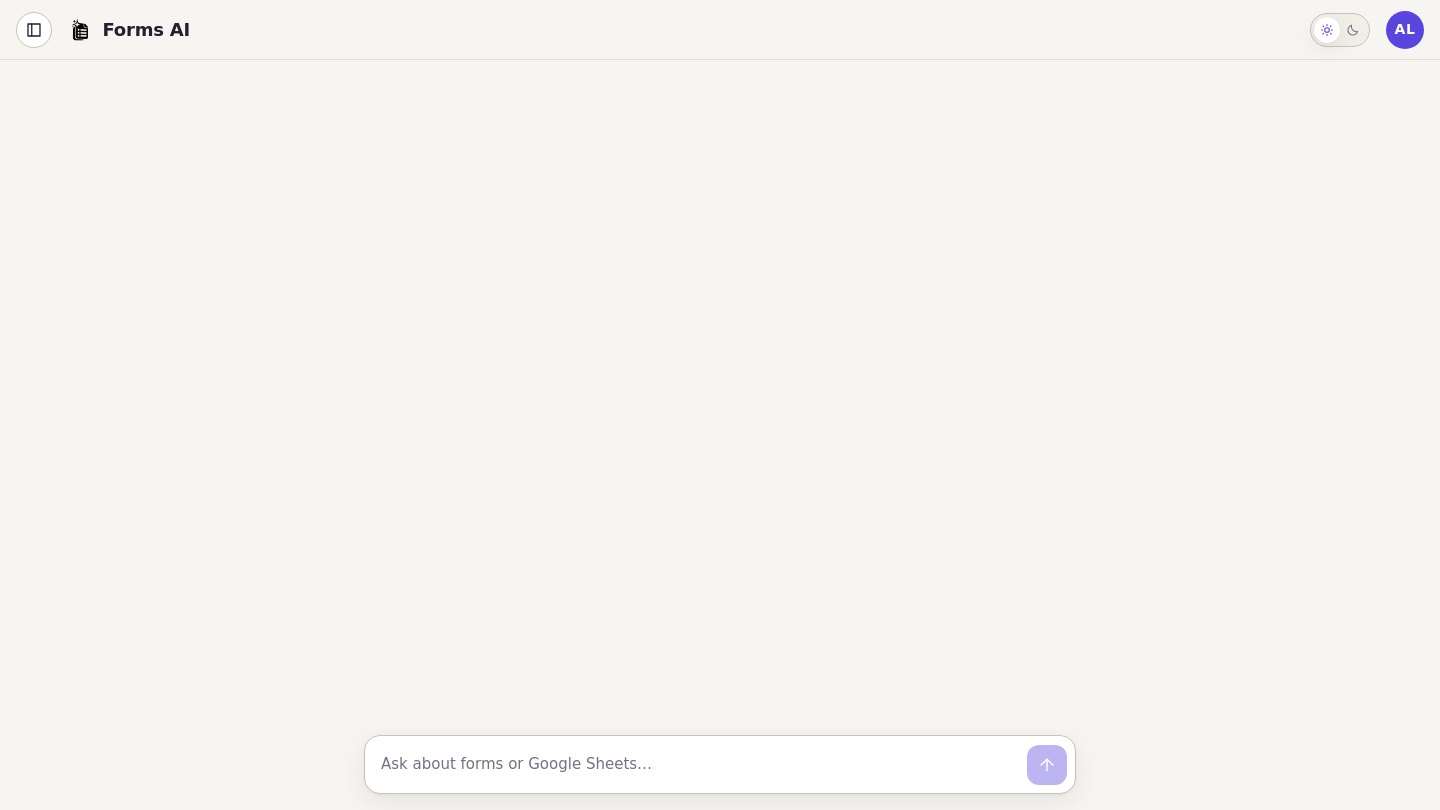
Scenario: chat history deletion › waits five seconds with a countdown and lets Undo cancel without deleting anything
This screenshot has width=1440, height=810.
Click the button named "Open sidebar".
click(34, 30)  # box [16,12,52,48]
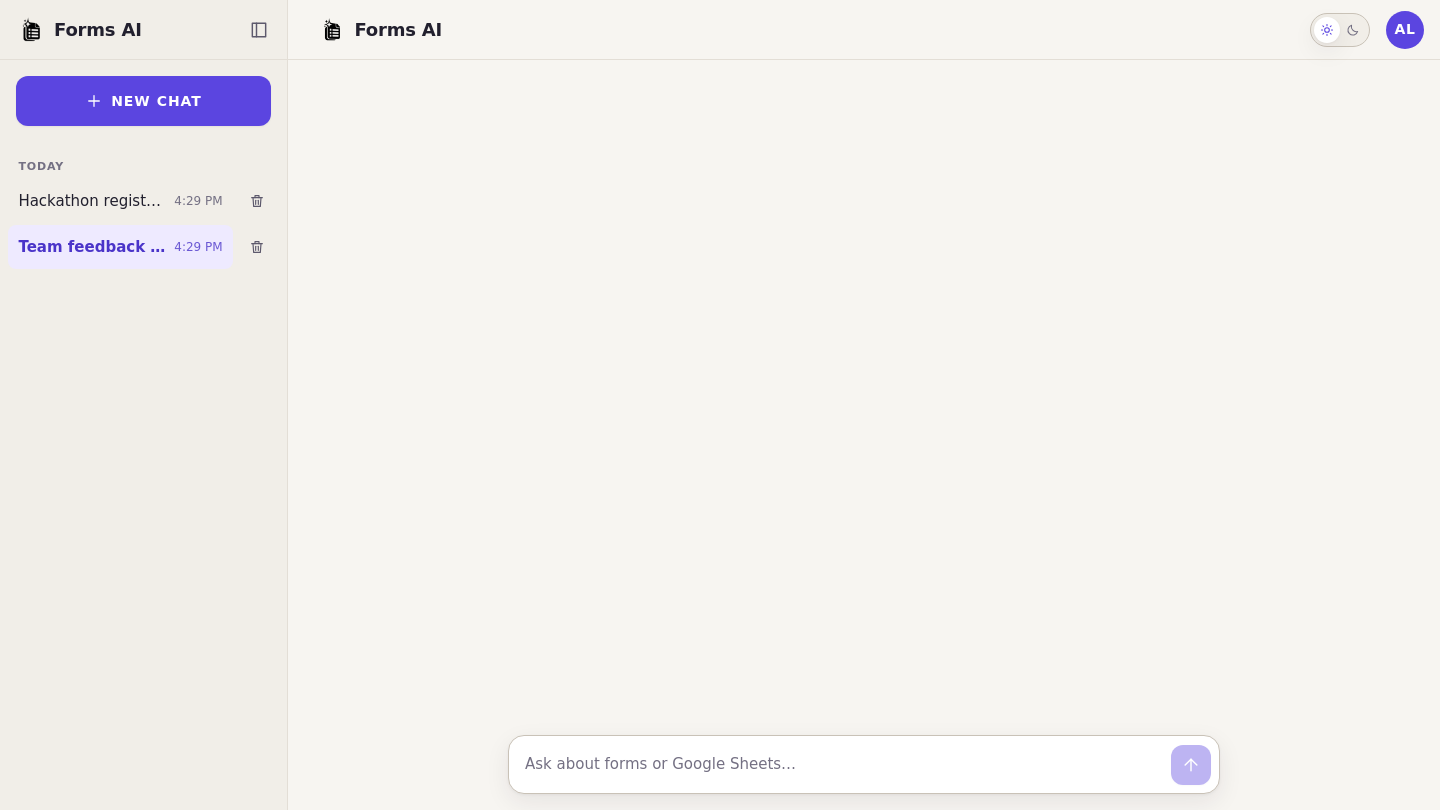
Now the text "Hackathon registration" is shown, box [18,190,166,213]
Click the button named "Delete chat “Hackathon registration”".
click(257, 201)  # box [235,179,279,223]
Wait 4999 ms
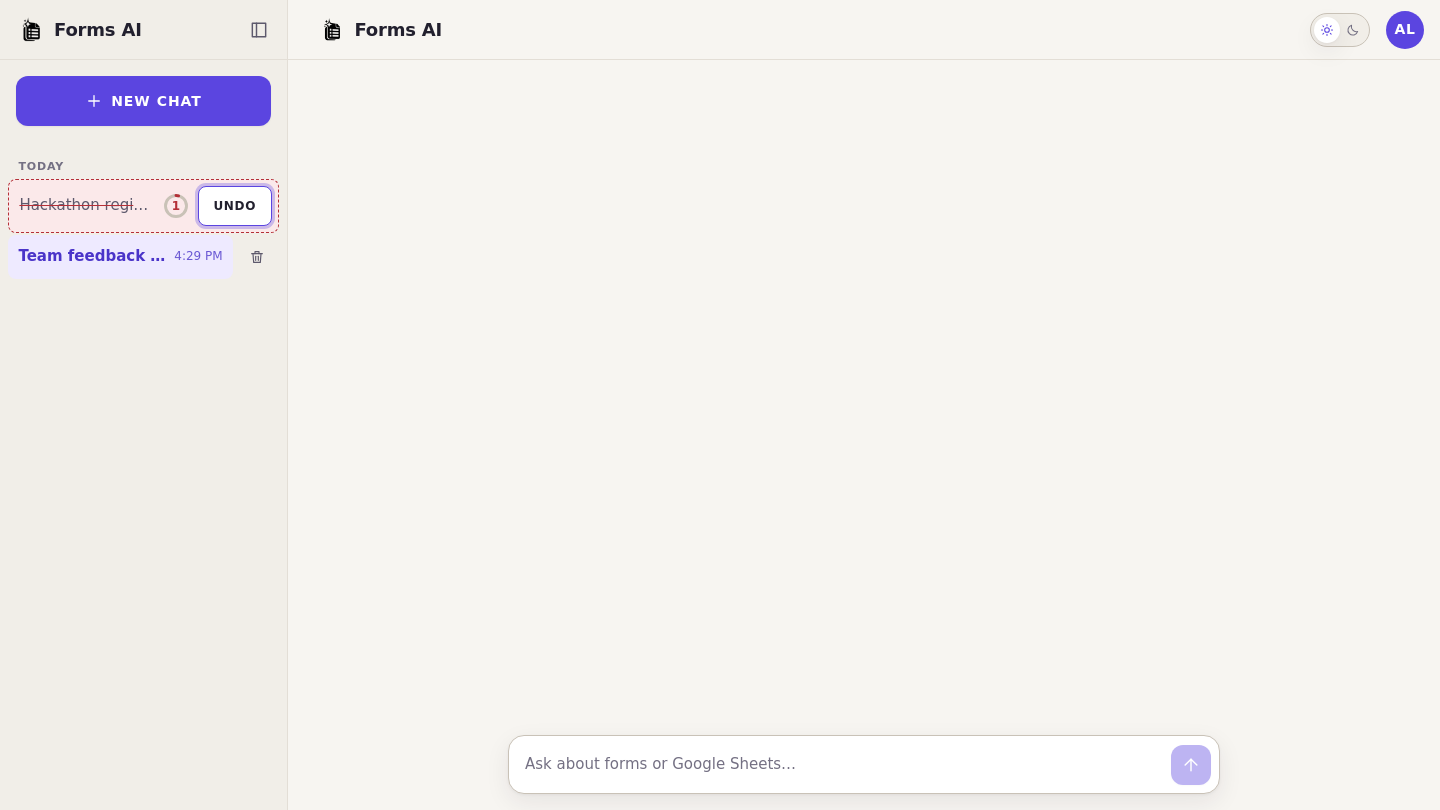
Now the text "3" is shown, box [172,197,180,215]
Click the button with aria-label "Undo deleting “Hackathon registration”".
click(235, 206)  # box [198,186,272,226]
Wait 10000 ms
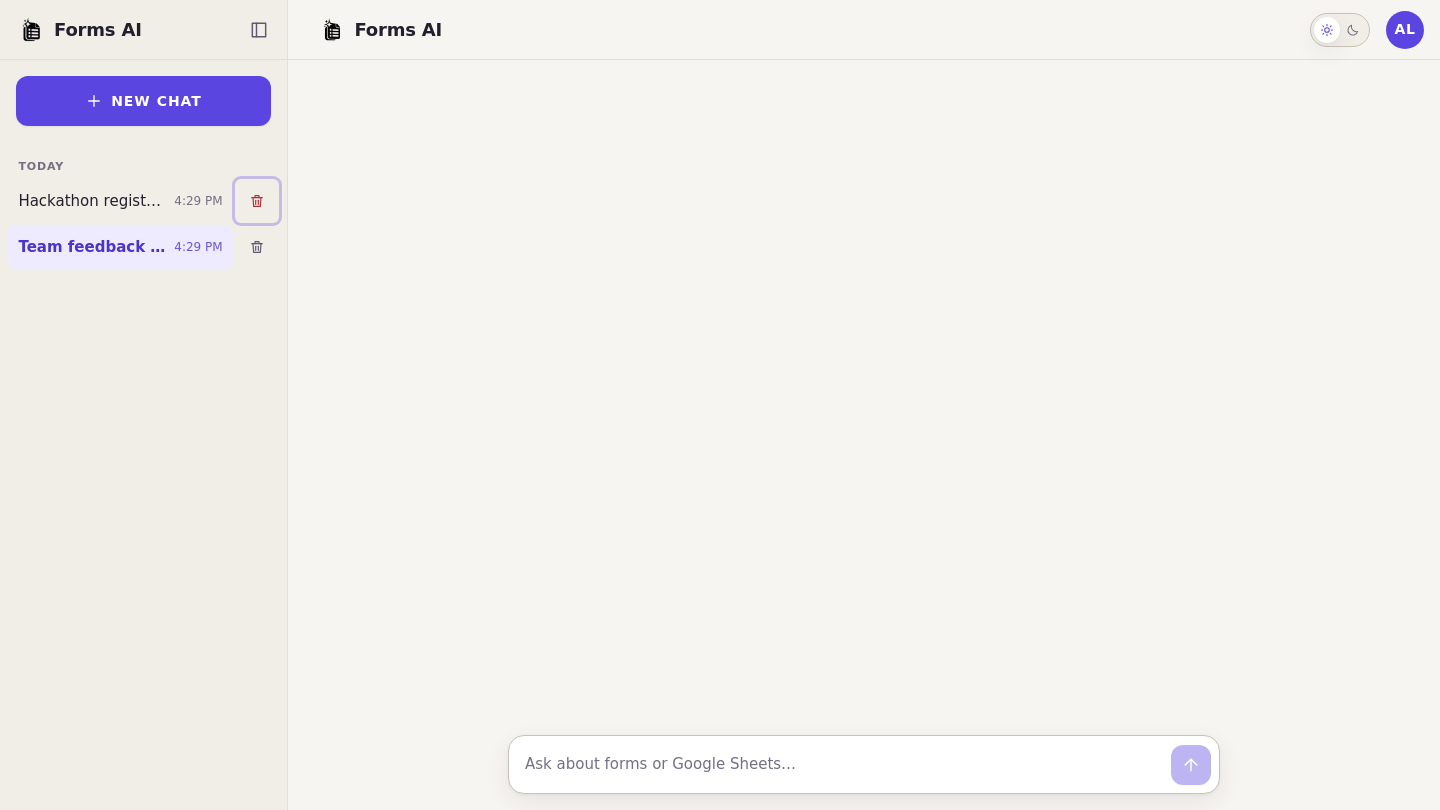
Now the link "Hackathon registration 4:29 PM" is shown, box [18,192,223,210]
